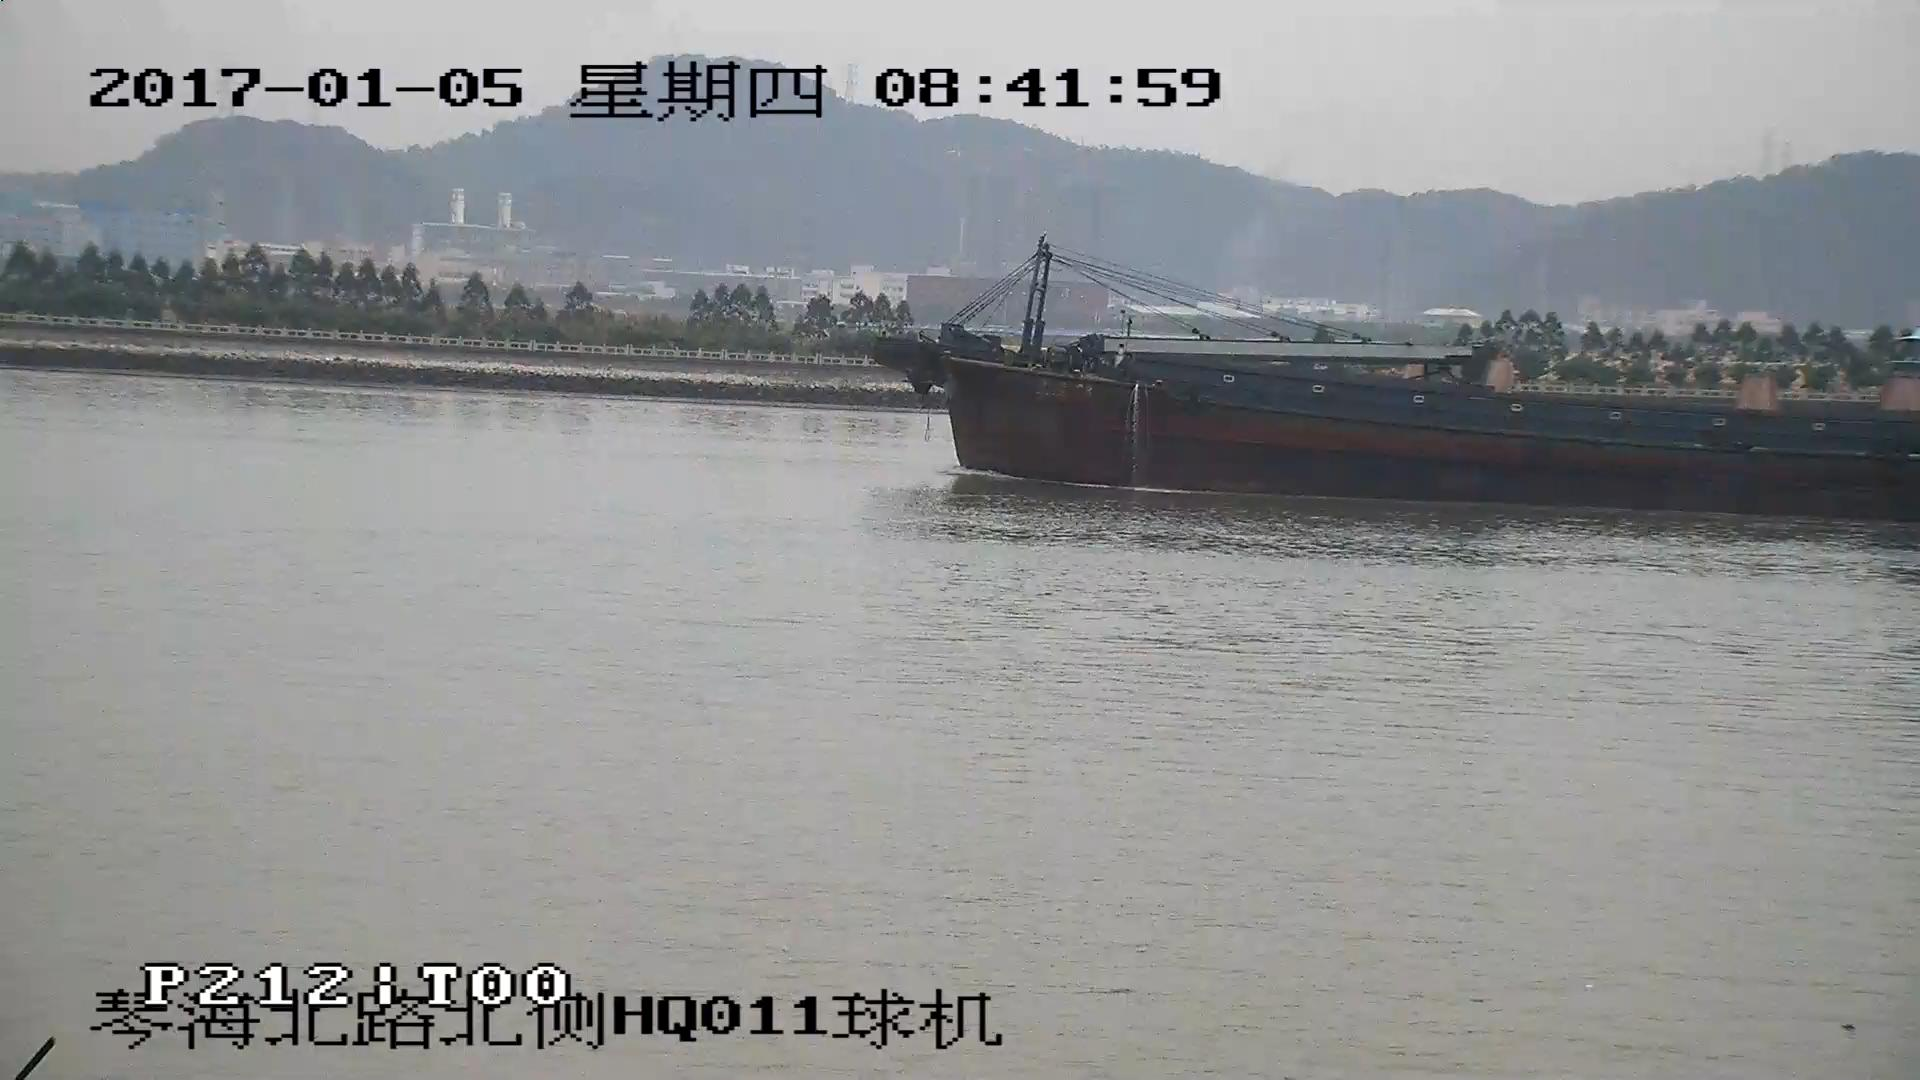bulk cargo carrier: (870, 246, 1920, 518)
